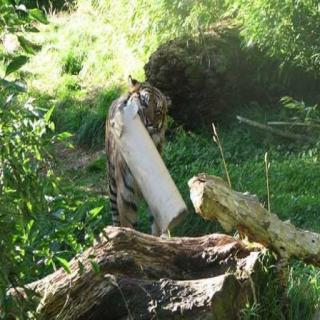Tiger: (95, 74, 171, 222)
